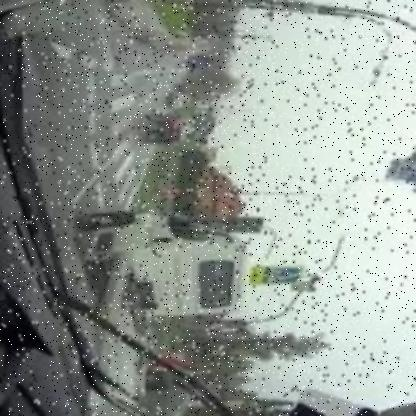Pedestrian Crossing: (261, 268, 299, 287)
